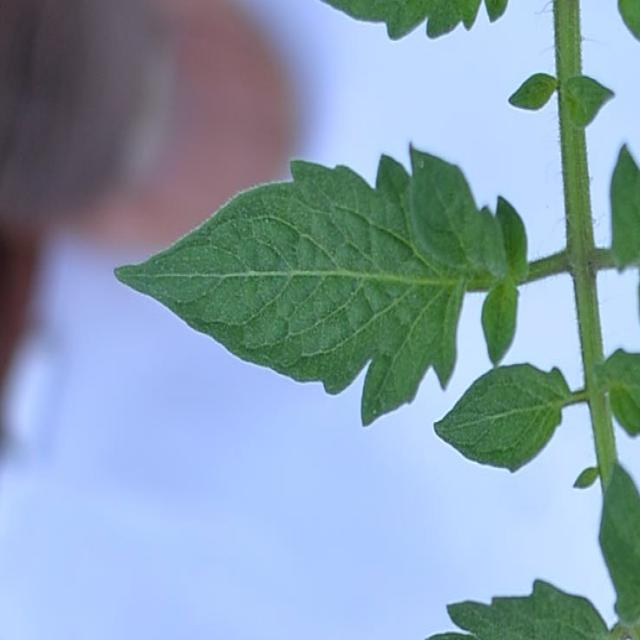healthy: (86, 130, 546, 427), (432, 361, 579, 476)
